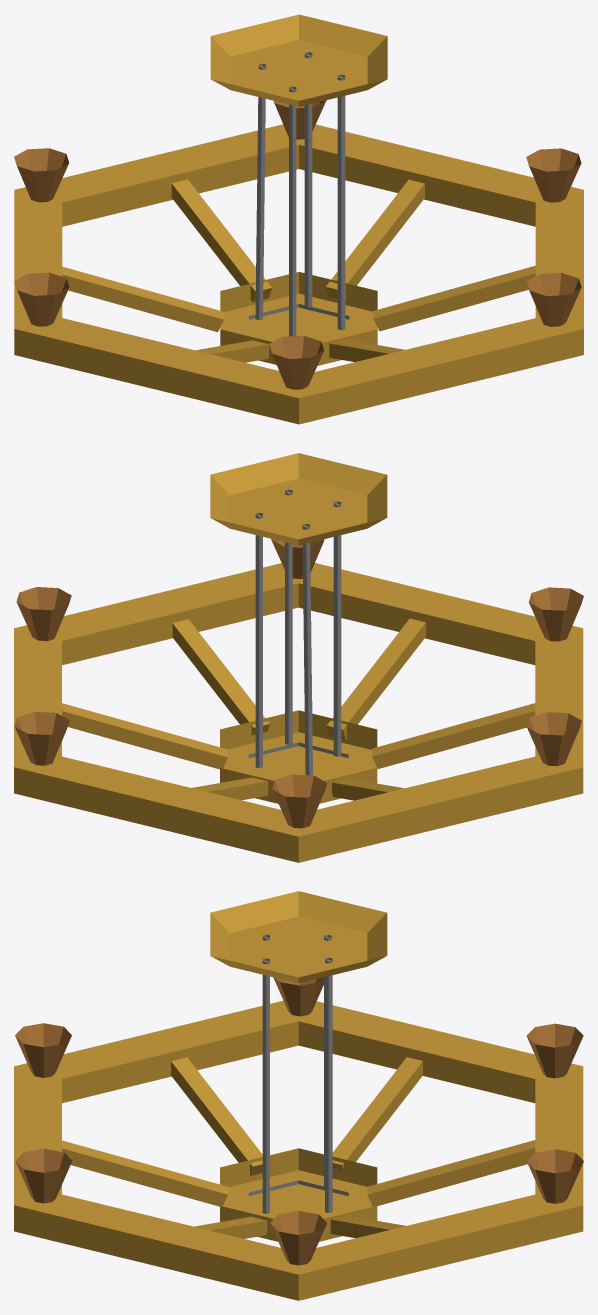
File: LamparaTechoEscenario2.fbx
The picture shows the model from 3 angles, top to bottom: view 1: azimuth 30°, elevation 25°; view 2: azimuth 150°, elevation 25°; view 3: azimuth 270°, elevation 25°; orthographic projection.
Parts seen in each view (by area): view 1: Lampara; view 2: Lampara; view 3: Lampara.
Part boxes in pixels (x1,y1,x2,y2): Lampara: [14, 14, 583, 424]; Lampara: [14, 453, 583, 862]; Lampara: [14, 891, 583, 1300].
Bounding box in the file's own units: 434 × 229 × 377.
